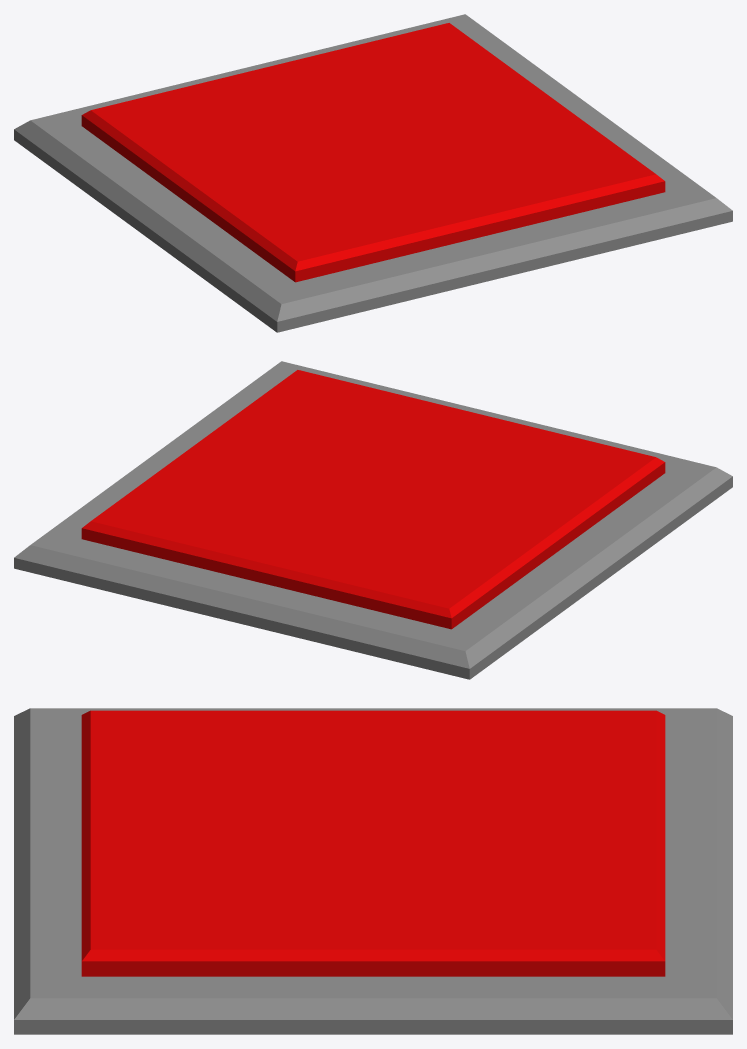
The model's file is Button.fbx.
The picture shows the model from 3 angles, top to bottom: view 1: azimuth 30°, elevation 25°; view 2: azimuth 150°, elevation 25°; view 3: azimuth 270°, elevation 25°; orthographic projection. The views are drawn at different scales.
Parts seen in each view (by area): view 1: bButton, bBaseButton; view 2: bButton, bBaseButton; view 3: bButton, bBaseButton.
Boxes of the visible parts, left/top/right/bottom form: bButton: left=81, top=23, right=665, bottom=282; bBaseButton: left=14, top=14, right=732, bottom=332; bButton: left=81, top=370, right=665, bottom=629; bBaseButton: left=14, top=361, right=732, bottom=679; bButton: left=81, top=710, right=665, bottom=976; bBaseButton: left=14, top=708, right=732, bottom=1034.
Bounding box in the file's own units: 19.8 × 1.6 × 19.8.
